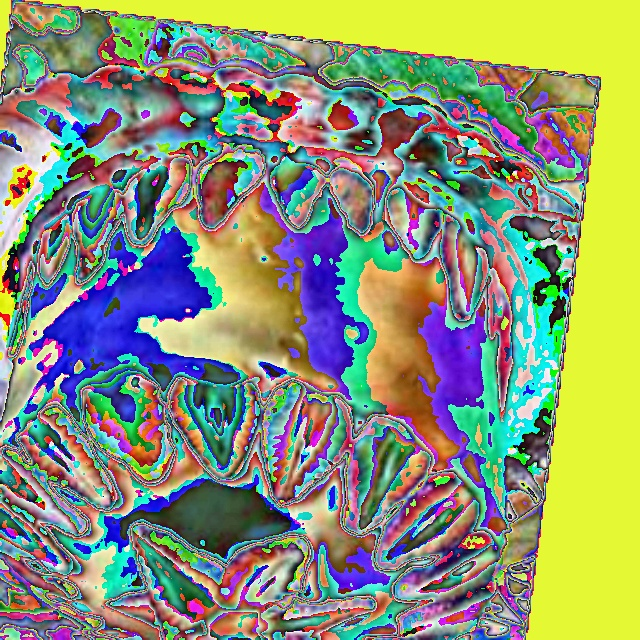background: (0, 148, 515, 639)
